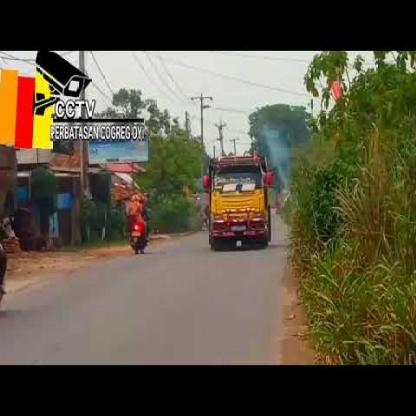truck: (202, 147, 273, 252)
